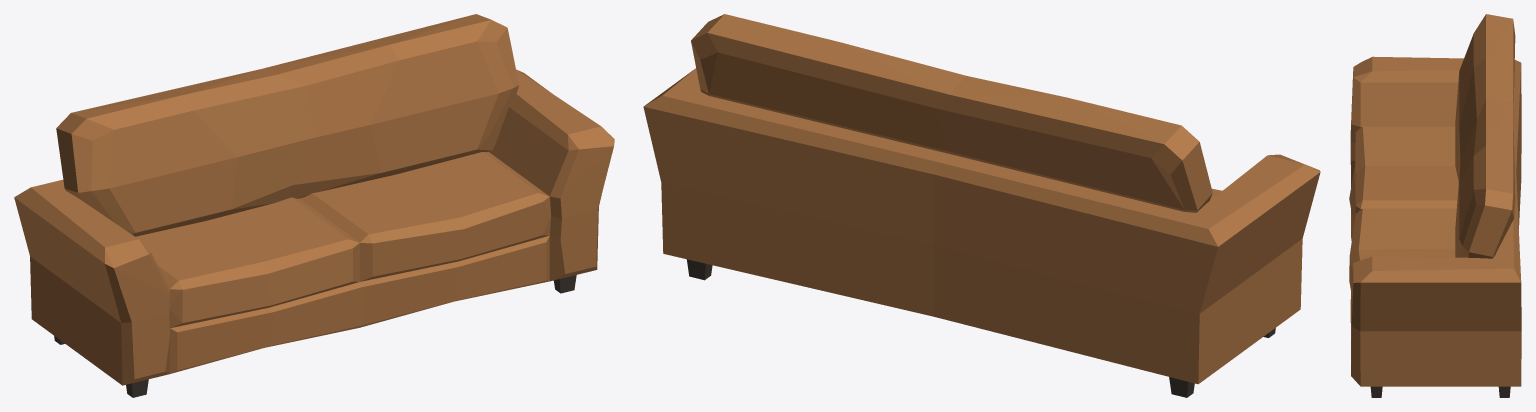
File: SM_Prop_Couch_05.fbx
3 views of the same model, side by side, from view 1: azimuth 30°, elevation 25°; view 2: azimuth 150°, elevation 25°; view 3: azimuth 270°, elevation 25° (orthographic). The views are drawn at different scales.
Visible parts, largest first — view 1: SM_Prop_Couch_05; view 2: SM_Prop_Couch_05; view 3: SM_Prop_Couch_05.
Part boxes in pixels (x1,y1,x2,y2): SM_Prop_Couch_05: (14, 14, 614, 397); SM_Prop_Couch_05: (643, 14, 1320, 397); SM_Prop_Couch_05: (1349, 14, 1521, 397).
Size of the model in its own units: 280 by 119 by 92.62.
